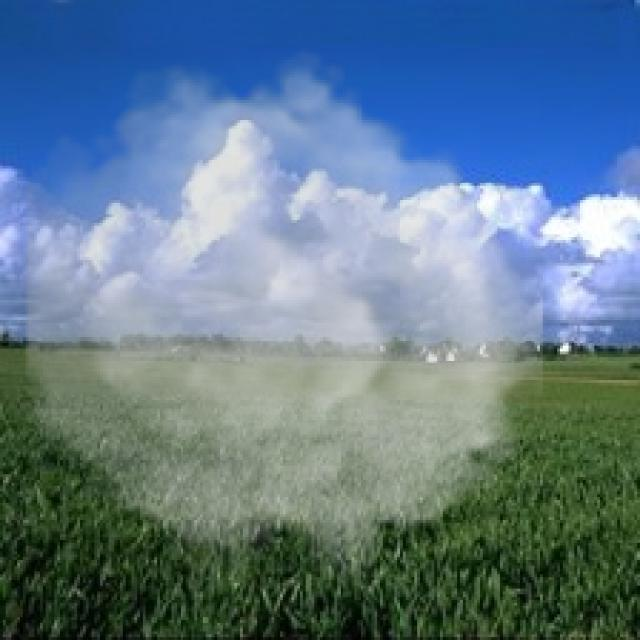Smoke: (26, 46, 543, 588)
